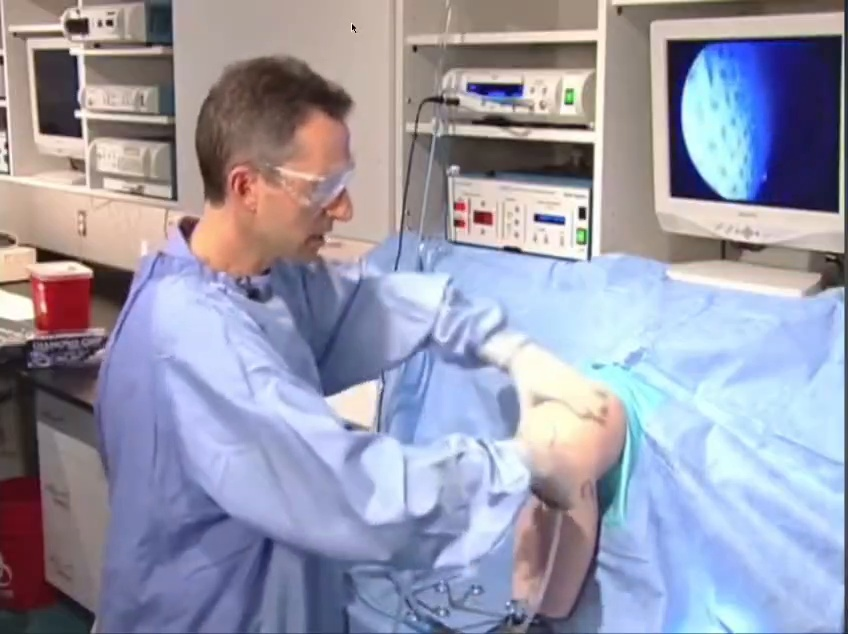probe: (680, 579, 763, 634)
